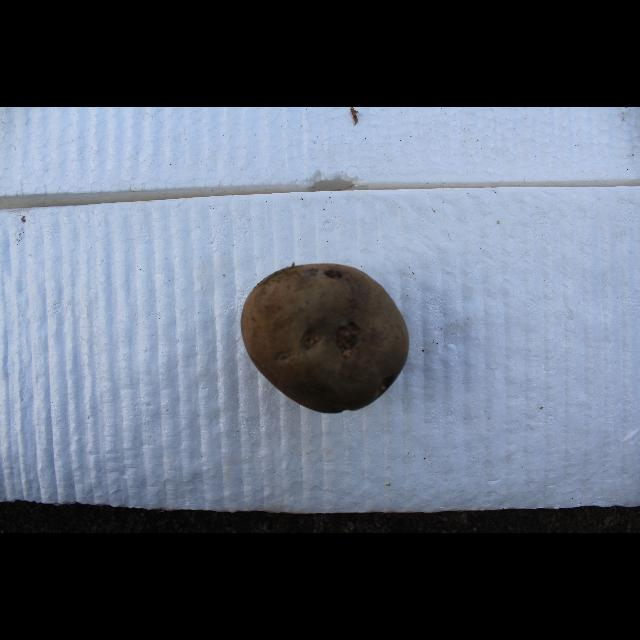Diseased-fungal potato: (231, 224, 399, 382)
